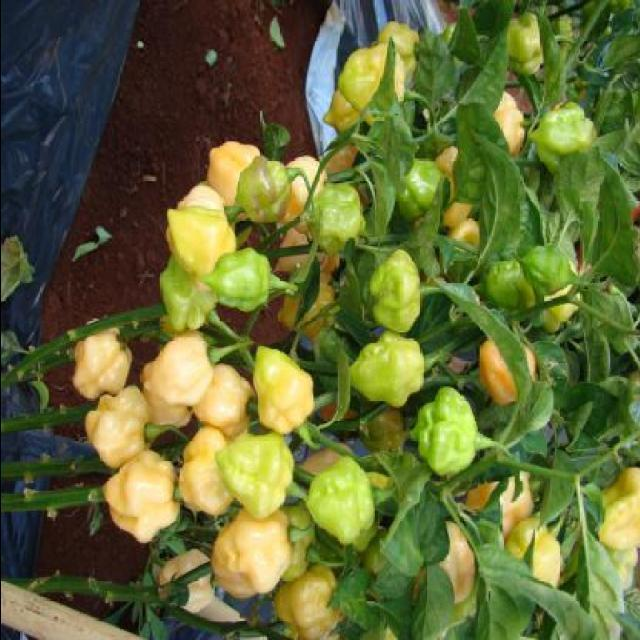Bell pepper: (71, 11, 640, 638)
